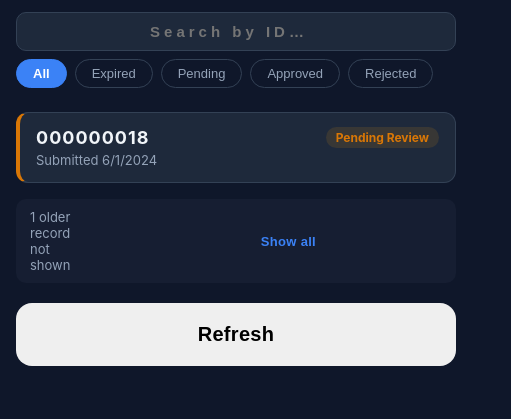
Test case: MySubmissions — hidden records banner › Refresh resets back to the filtered view
This screenshot has width=511, height=419.
Click the button "Show all".
click(288, 241)  # box [82,234,494,248]
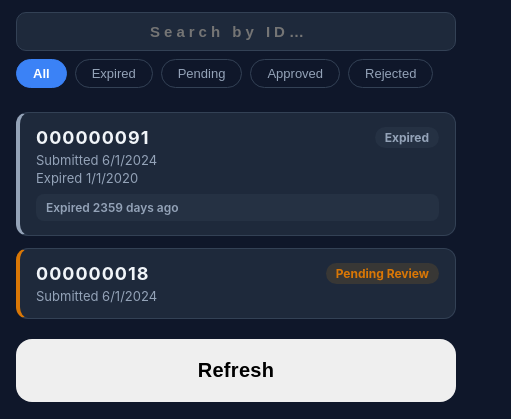
Now the text "000000091" is shown, box [36,127,149,148]
Click the button "Refresh".
click(236, 370)  # box [16,339,456,402]
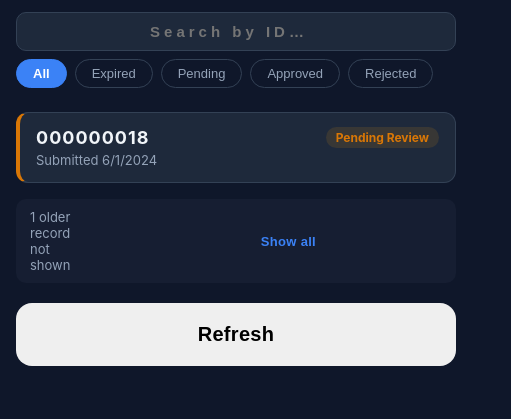
Now the text "000000091" is gone
Now the text "1 older record not shown" is shown, box [30,209,70,273]
